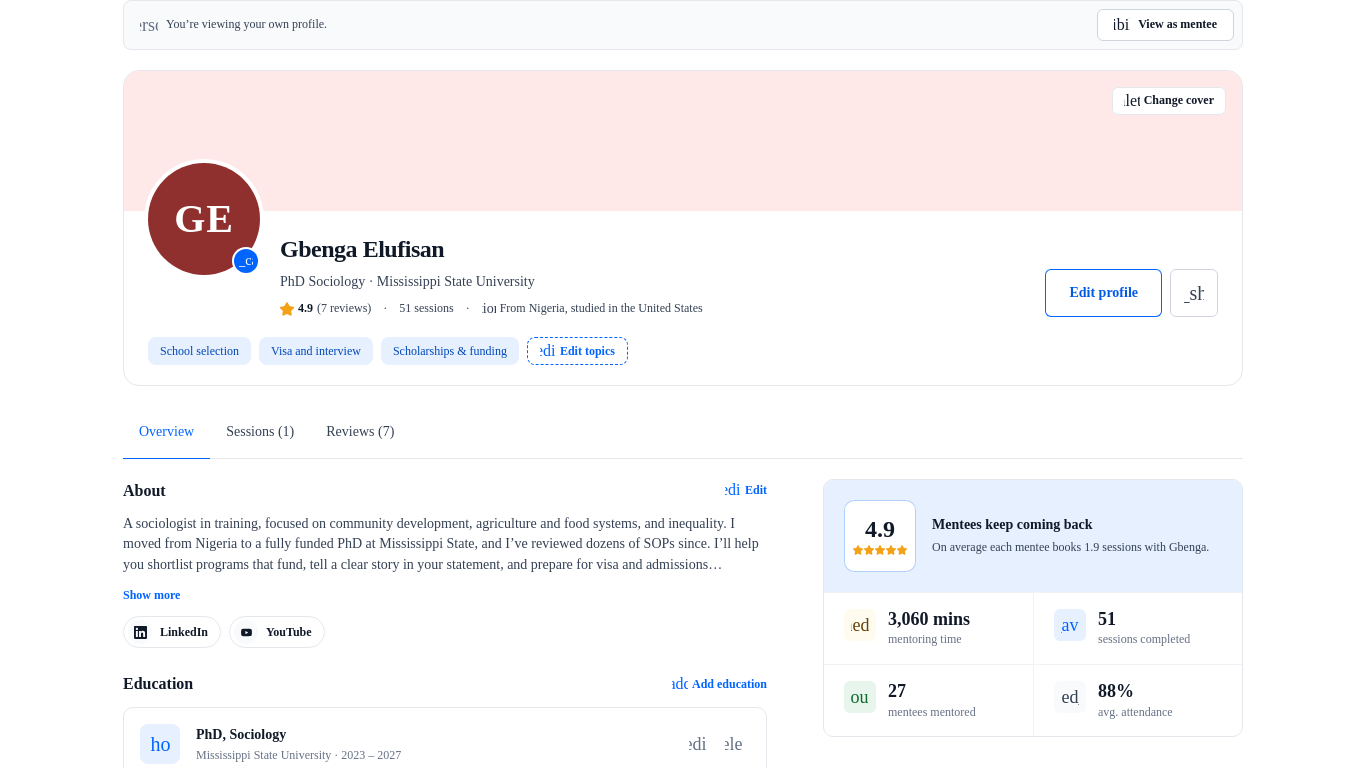
Test: MentorProfileScreen — the owner’s topics › a failed save stays open and says why
The image size is (1366, 768).
Click the button "edit Edit topics" at (577, 352), box [527,338,628,366]
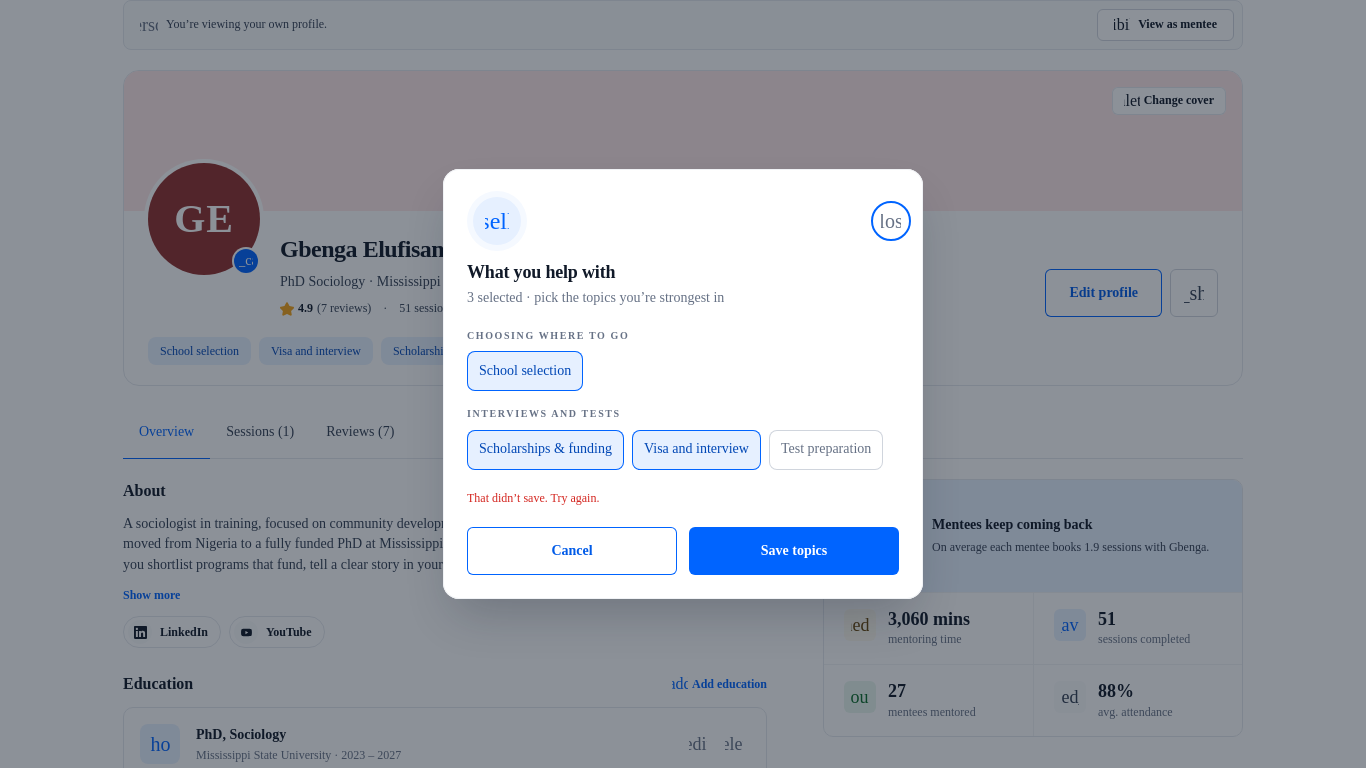
Check: the message reads "That didn’t save. Try again.", box [467,491,599,505]
